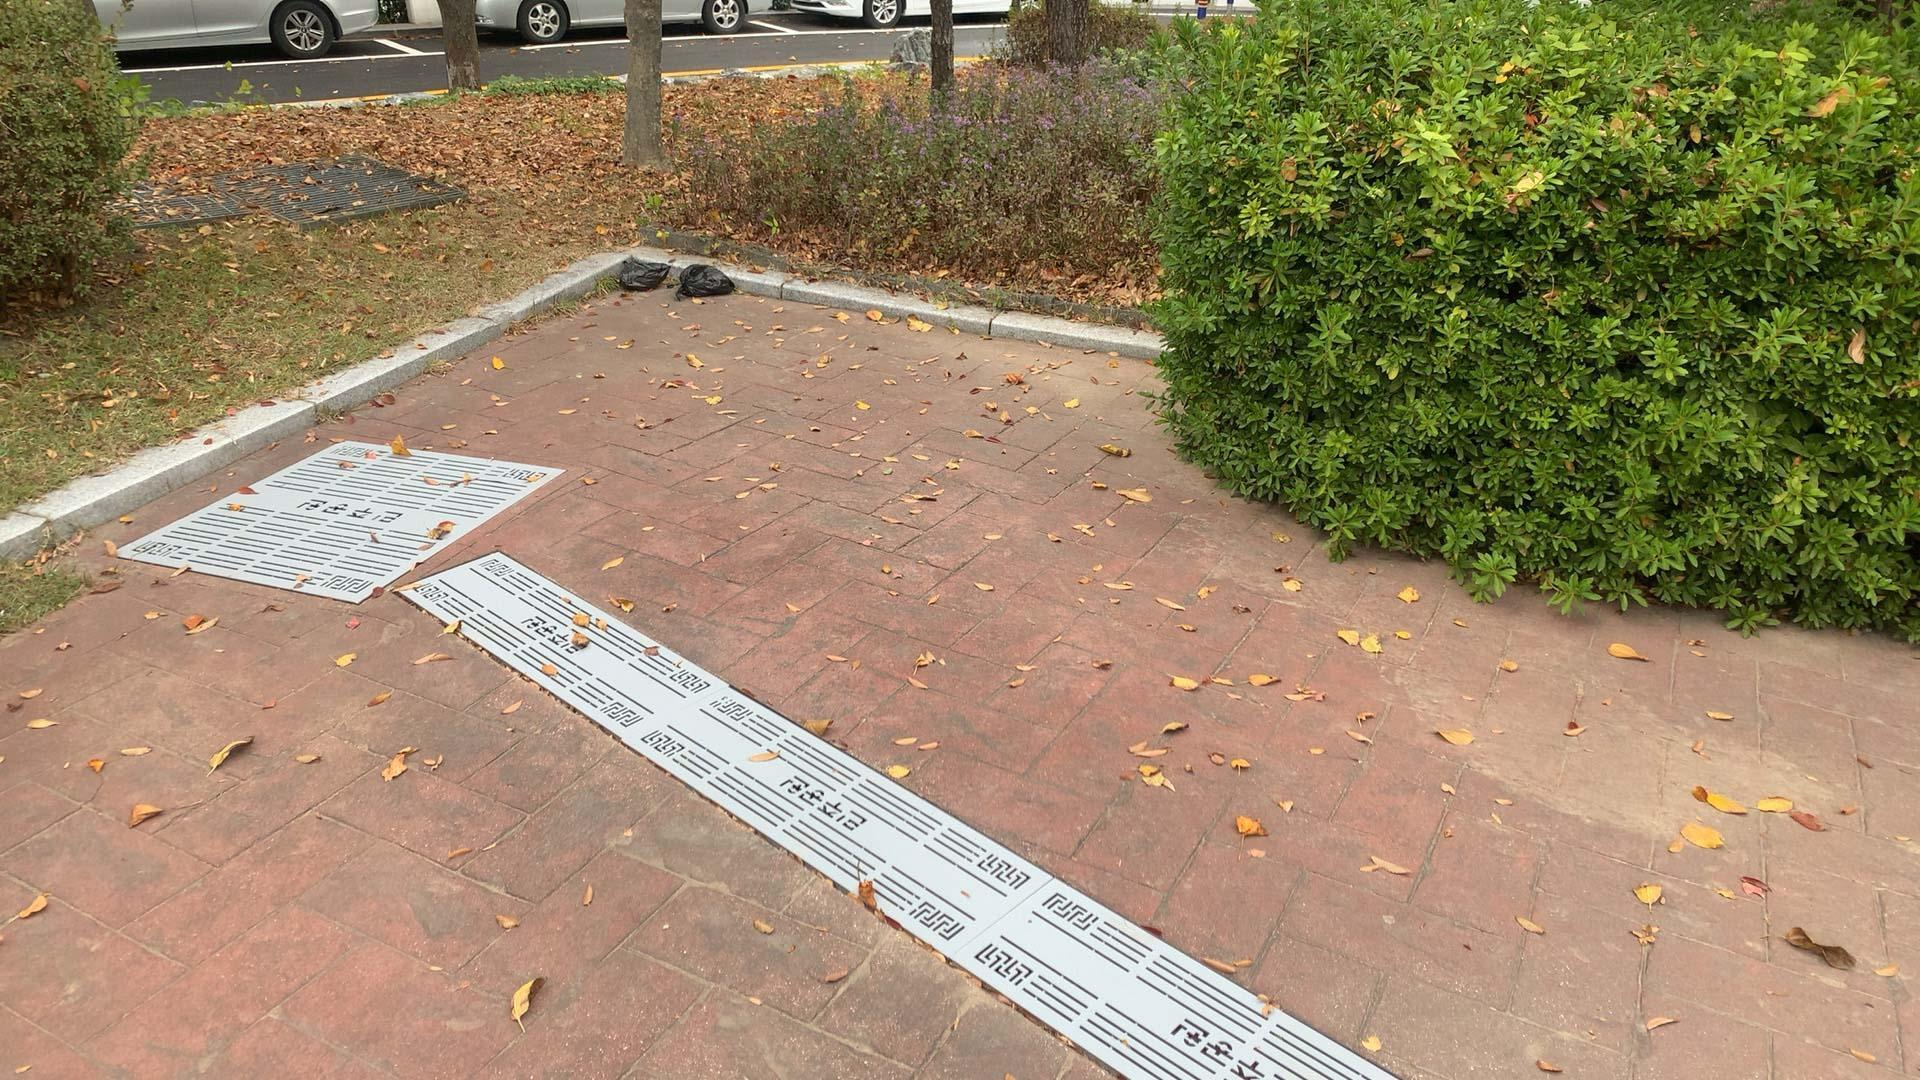black_bag: (670, 261, 740, 305), (611, 252, 673, 293)
